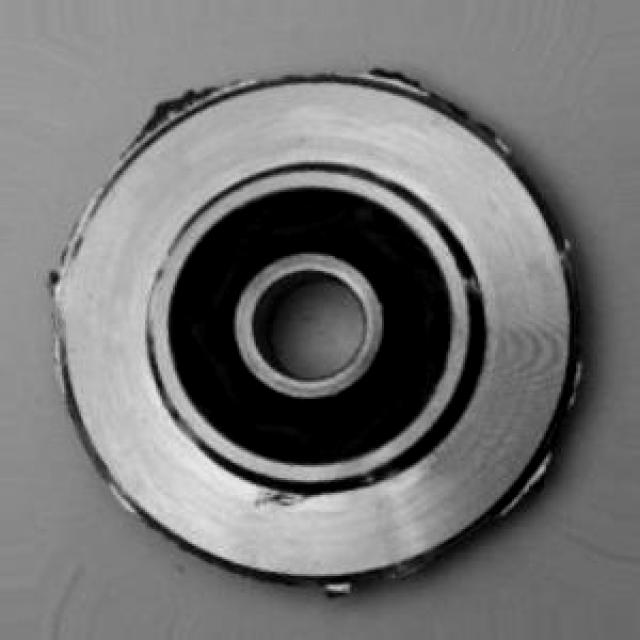Defect: (132, 90, 206, 128)
